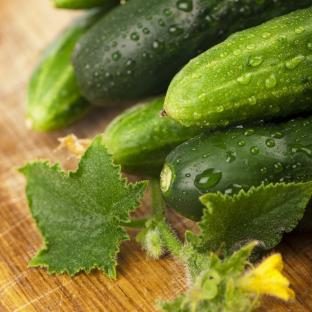Cucumber: (73, 0, 310, 105), (164, 7, 311, 129), (161, 117, 311, 220), (26, 10, 106, 131), (104, 96, 200, 176)
